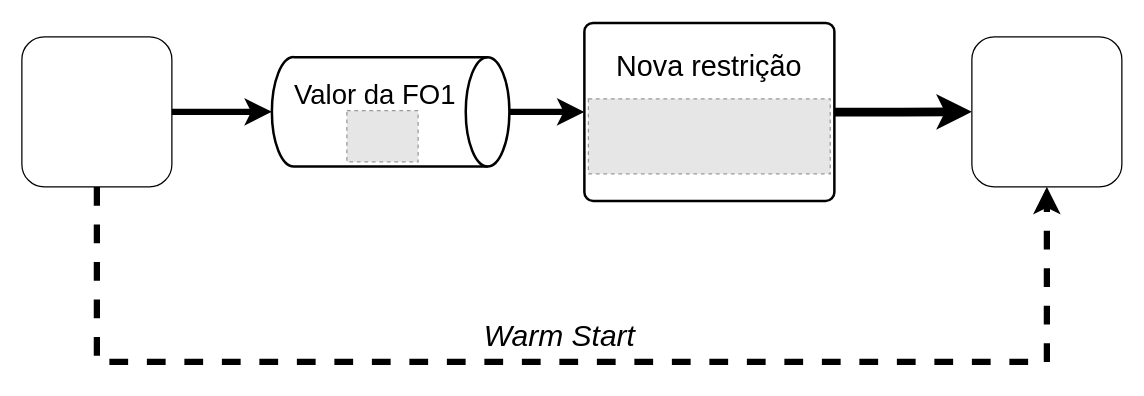
Image size: 1144x396. Some labels were removed from this diagram. Grey dashed boxes stand in for pictures. Here are the shapes that lost their labels. From the top down, the centre of each, then its label:
[96,111]: FO1
[1046,111]: FO2
